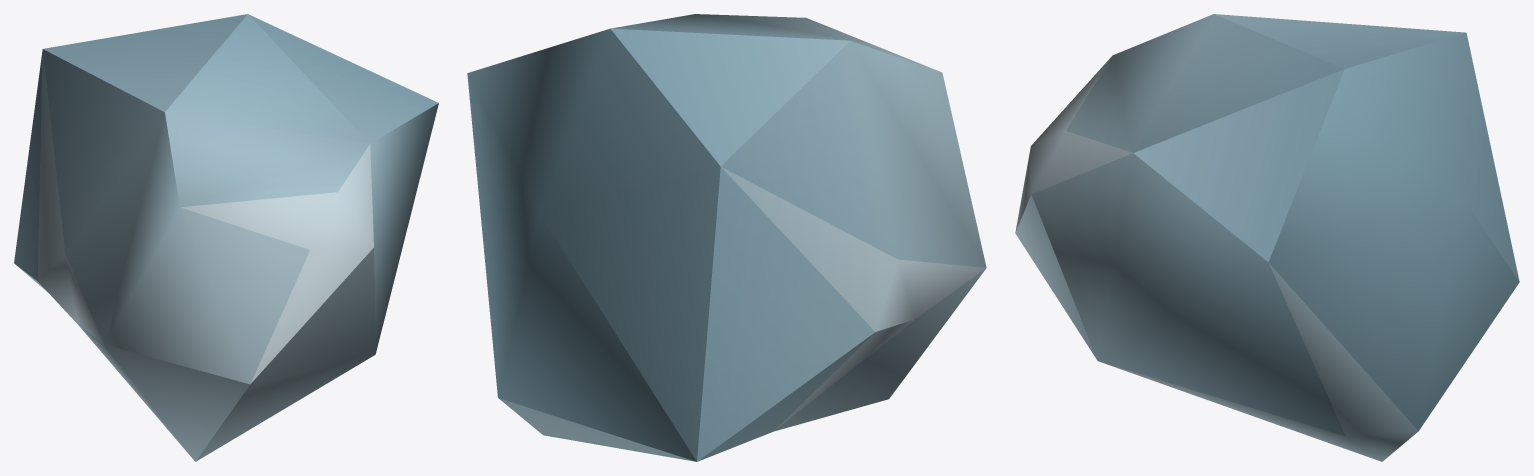
Rendered from silver-nugget-small.glb.
3 views of the same model, side by side, from view 1: azimuth 30°, elevation 25°; view 2: azimuth 150°, elevation 25°; view 3: azimuth 270°, elevation 25° (orthographic). The views are drawn at different scales.
Visible parts, largest first — view 1: Silver_Nugget_Small; view 2: Silver_Nugget_Small; view 3: Silver_Nugget_Small.
Boxes of the visible parts, left/top/right/bottom form: Silver_Nugget_Small: left=14, top=14, right=438, bottom=461; Silver_Nugget_Small: left=467, top=14, right=986, bottom=461; Silver_Nugget_Small: left=1015, top=14, right=1519, bottom=461.
Bounding box in the file's own units: 0.1411 × 0.1204 × 0.1461.
1 material, 1 textured.
